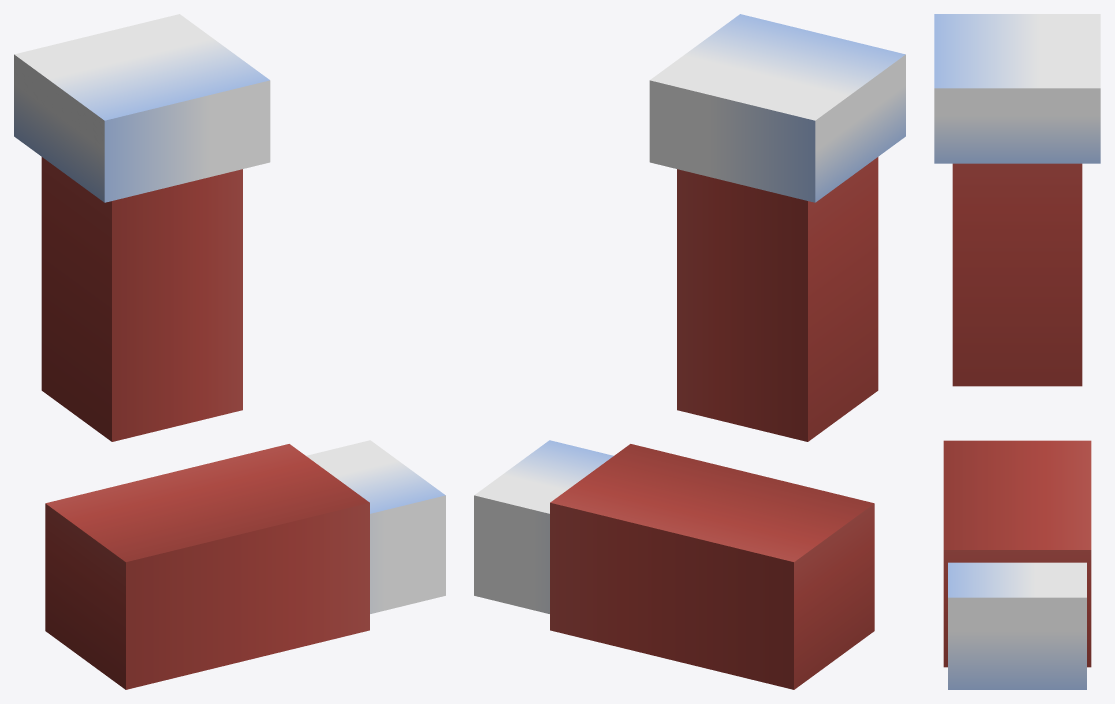
Rendered from sock_ornament.fbx.
3 renders of one model, left to right at view 1: azimuth 30°, elevation 25°; view 2: azimuth 150°, elevation 25°; view 3: azimuth 270°, elevation 25°, orthographic. The views are drawn at different scales.
Parts seen in each view (by area): view 1: sock_ornament; view 2: sock_ornament; view 3: sock_ornament.
Part boxes in pixels (bbox=[...]): sock_ornament: bbox=[14, 14, 445, 689]; sock_ornament: bbox=[474, 14, 905, 689]; sock_ornament: bbox=[934, 14, 1100, 689].
Bounding box in the file's own units: 81.89 × 130 × 36.85.
